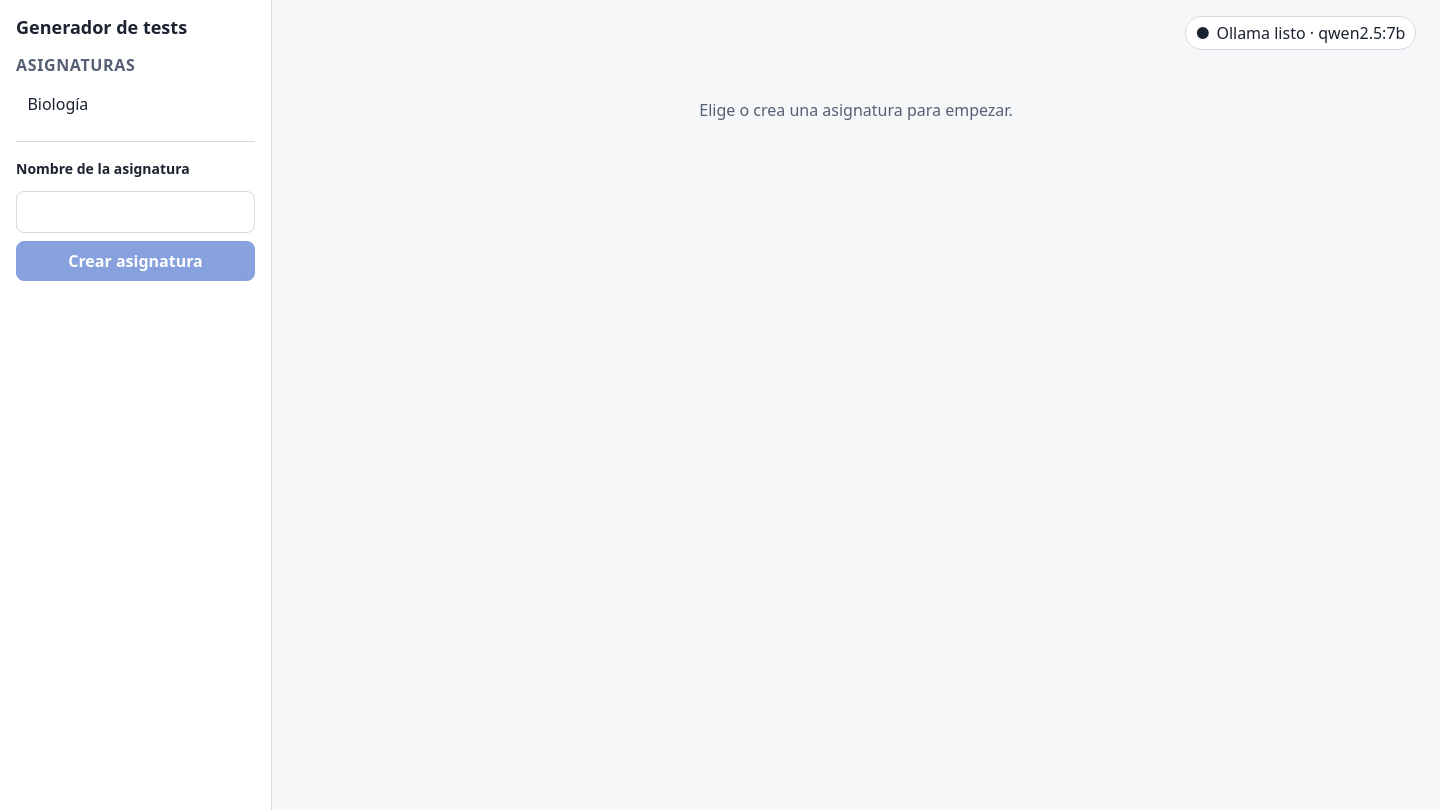
App › al elegir una asignatura aparecen las pestañas y Apuntes es la inicial
This screenshot has width=1440, height=810.
Click the button "Biología" at (136, 104), box x1=16 y1=82 x2=255 y2=124
(page scrolled)
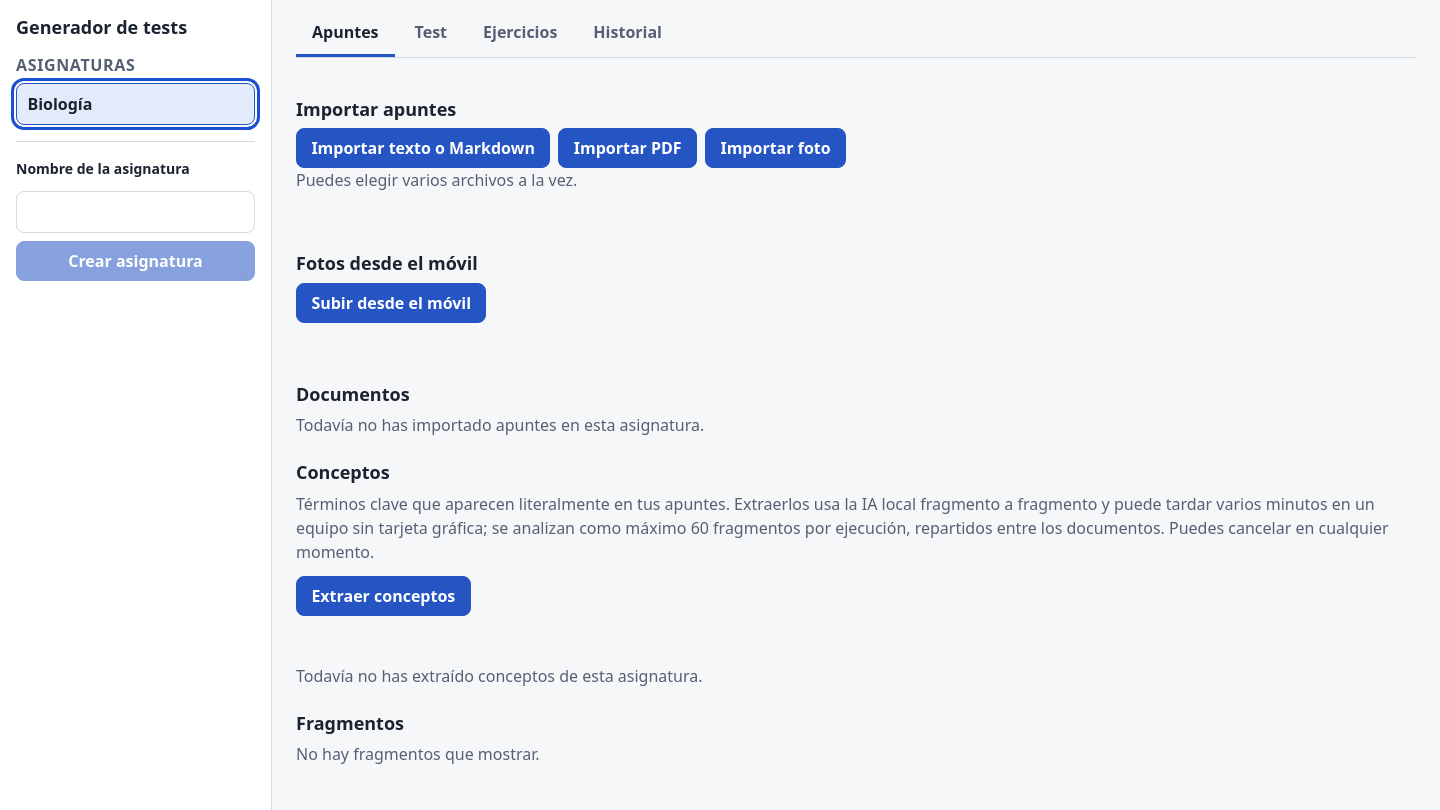
expect the tabs read "Apuntes", "Test", "Ejercicios", "Historial", in this order: met, box x1=296 y1=10 x2=394 y2=57; x1=398 y1=10 x2=463 y2=57; x1=467 y1=10 x2=573 y2=57; x1=577 y1=10 x2=678 y2=57
expect the panel "apuntes" is shown: met
